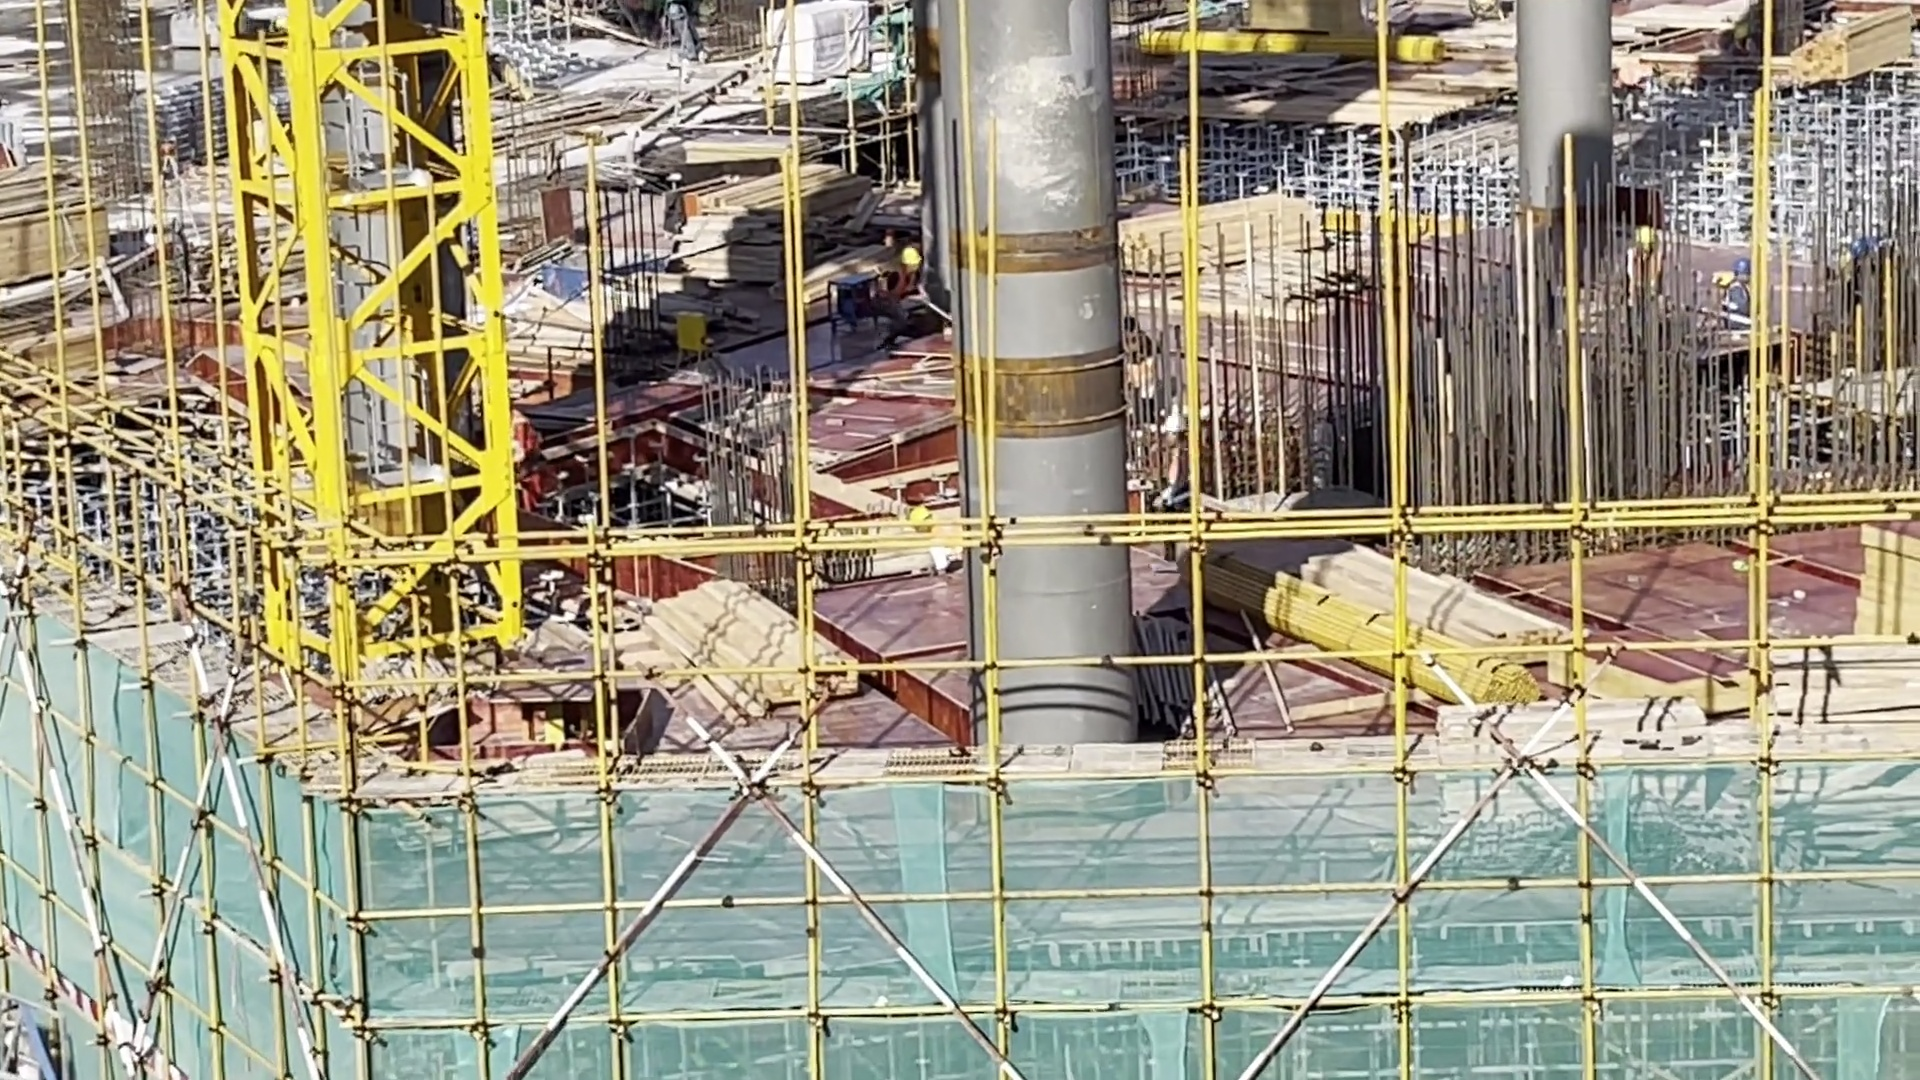board: (1, 178, 126, 277), (1844, 520, 1920, 643), (698, 130, 845, 162), (1245, 1, 1376, 32)
cutter: (479, 661, 644, 766)
ebox: (664, 317, 703, 367), (553, 714, 571, 754)
helmet: (1849, 230, 1874, 257), (1732, 258, 1766, 278), (1641, 232, 1670, 254), (909, 512, 933, 537), (1123, 317, 1145, 337), (896, 249, 916, 267)
hopper: (546, 234, 688, 302)
person: (882, 226, 944, 361), (497, 385, 562, 508), (1619, 213, 1679, 340), (1842, 223, 1916, 323), (1121, 306, 1179, 430), (904, 495, 969, 590), (1721, 251, 1766, 336)
vest: (1124, 334, 1172, 394), (1861, 242, 1906, 309), (1615, 243, 1666, 301), (933, 522, 973, 574), (499, 417, 526, 489), (891, 266, 921, 327), (1723, 274, 1756, 322), (1726, 277, 1757, 309)
wood: (1239, 496, 1536, 662), (719, 171, 896, 281), (666, 587, 829, 704), (1131, 172, 1298, 279), (1808, 1, 1902, 107)
